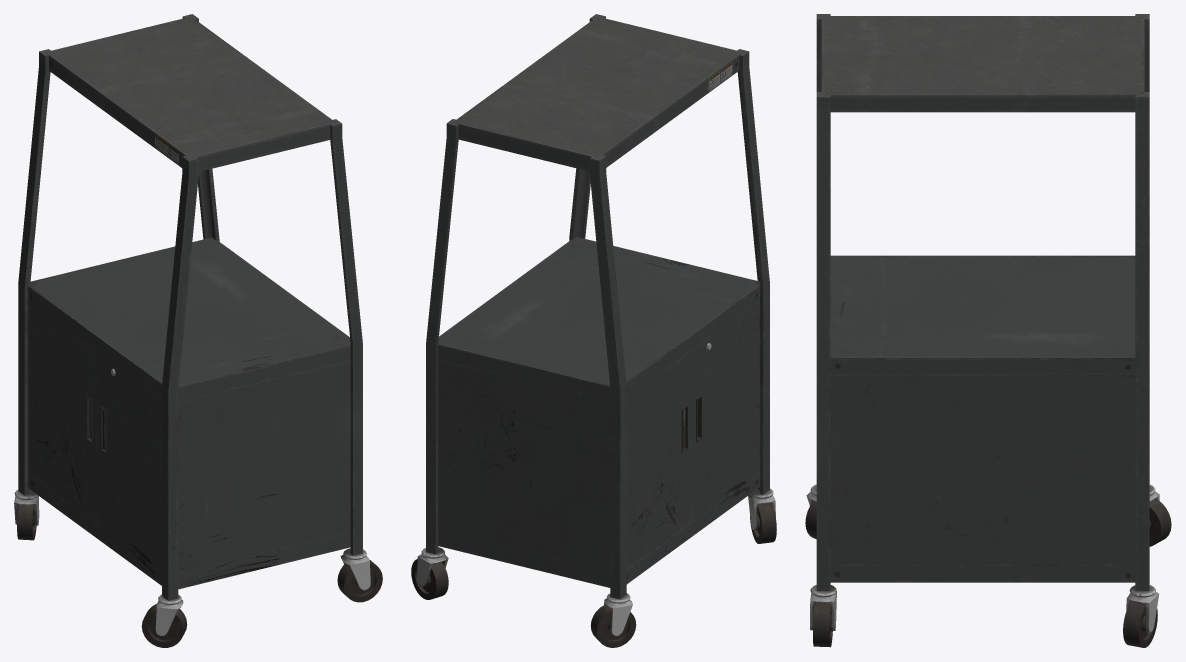
File: SM_Adjustable_Tv_Cart_01b.fbx
The picture shows the model from 3 angles, left to right: view 1: azimuth 30°, elevation 25°; view 2: azimuth 150°, elevation 25°; view 3: azimuth 270°, elevation 25°; orthographic projection. The views are drawn at different scales.
Visible parts, largest first — view 1: SM_Adjustable_Tv_Cart_01b_LOD0; view 2: SM_Adjustable_Tv_Cart_01b_LOD0; view 3: SM_Adjustable_Tv_Cart_01b_LOD0.
Part boxes in pixels (x1,y1,x2,y2): SM_Adjustable_Tv_Cart_01b_LOD0: [14, 14, 382, 647]; SM_Adjustable_Tv_Cart_01b_LOD0: [411, 14, 776, 647]; SM_Adjustable_Tv_Cart_01b_LOD0: [805, 14, 1171, 647].
Size of the model in its own units: 66.5 by 82 by 133.
